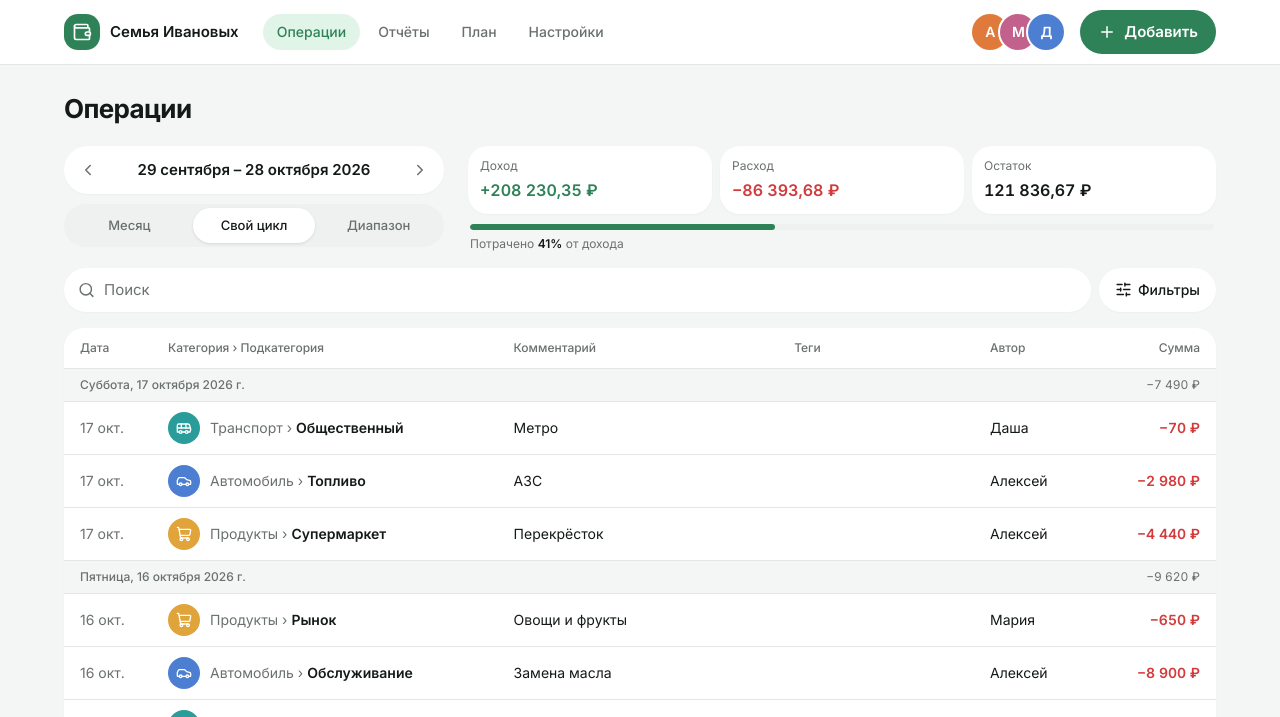
Экран «Операции» › поиск сужает историю и показывает подпись про фильтры
This screenshot has width=1280, height=717.
Type "замена масла" into the search field named "Поиск по операциям".
click(577, 290); type("замена масла")  # box [64,268,1091,312]
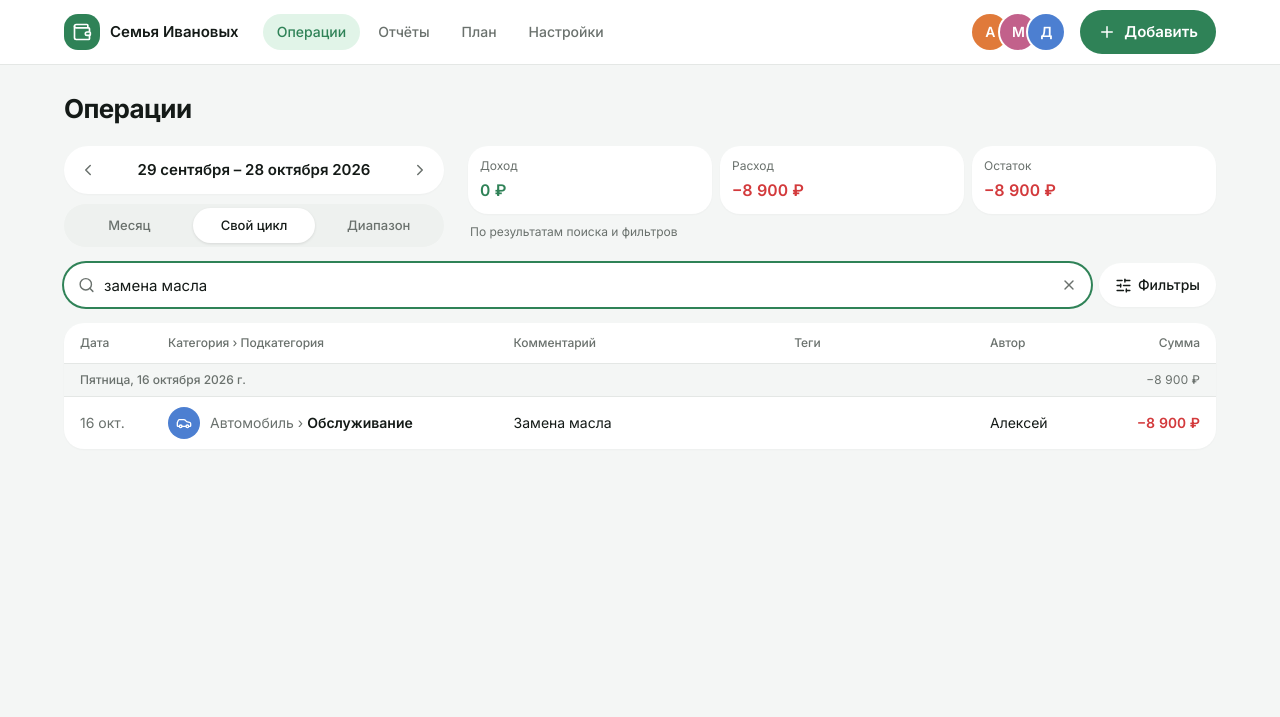
Expected: the text "Перекрёсток" is not shown
Expected: the text "По результатам поиска и фильтров" is shown, [470,224,678,238]
